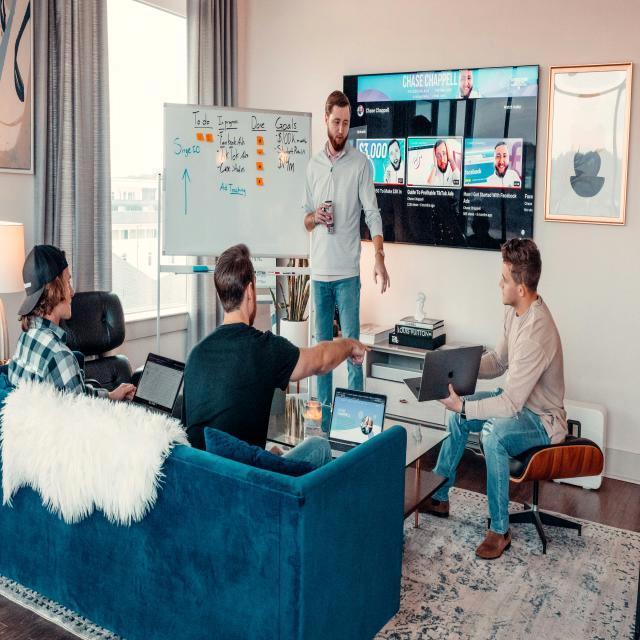no_hard_hat: (19, 245, 68, 316)
no_head_wear: (216, 247, 258, 314), (501, 238, 541, 291), (324, 89, 355, 118)
person: (423, 235, 570, 568), (184, 248, 371, 450), (300, 87, 392, 436), (10, 235, 124, 402)
